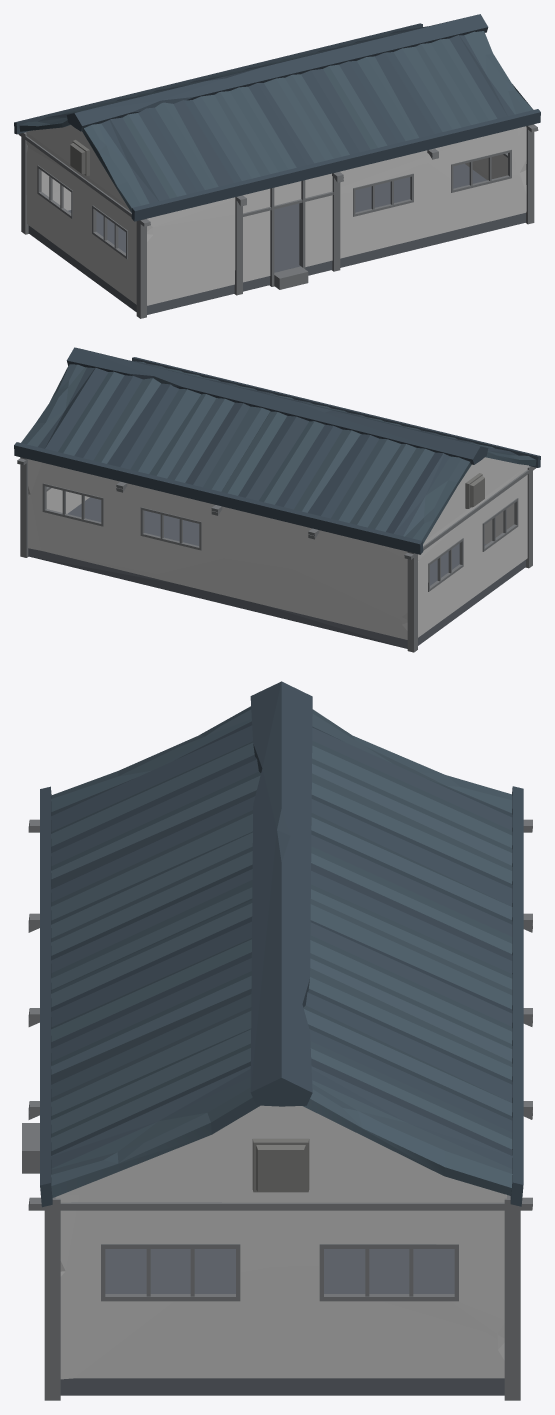
The model's file is SM_Bld_Warehouse_01.fbx.
3 views of the same model, one above another, from view 1: azimuth 30°, elevation 25°; view 2: azimuth 150°, elevation 25°; view 3: azimuth 270°, elevation 25° (orthographic). The views are drawn at different scales.
Visible parts, largest first — view 1: SM_Bld_Warehouse_01; view 2: SM_Bld_Warehouse_01; view 3: SM_Bld_Warehouse_01.
Boxes of the visible parts, left/top/right/bottom form: SM_Bld_Warehouse_01: left=14, top=14, right=540, bottom=318; SM_Bld_Warehouse_01: left=14, top=347, right=540, bottom=652; SM_Bld_Warehouse_01: left=22, top=681, right=532, bottom=1400.
Bounding box in the file's own units: 1455 × 562 × 793.
